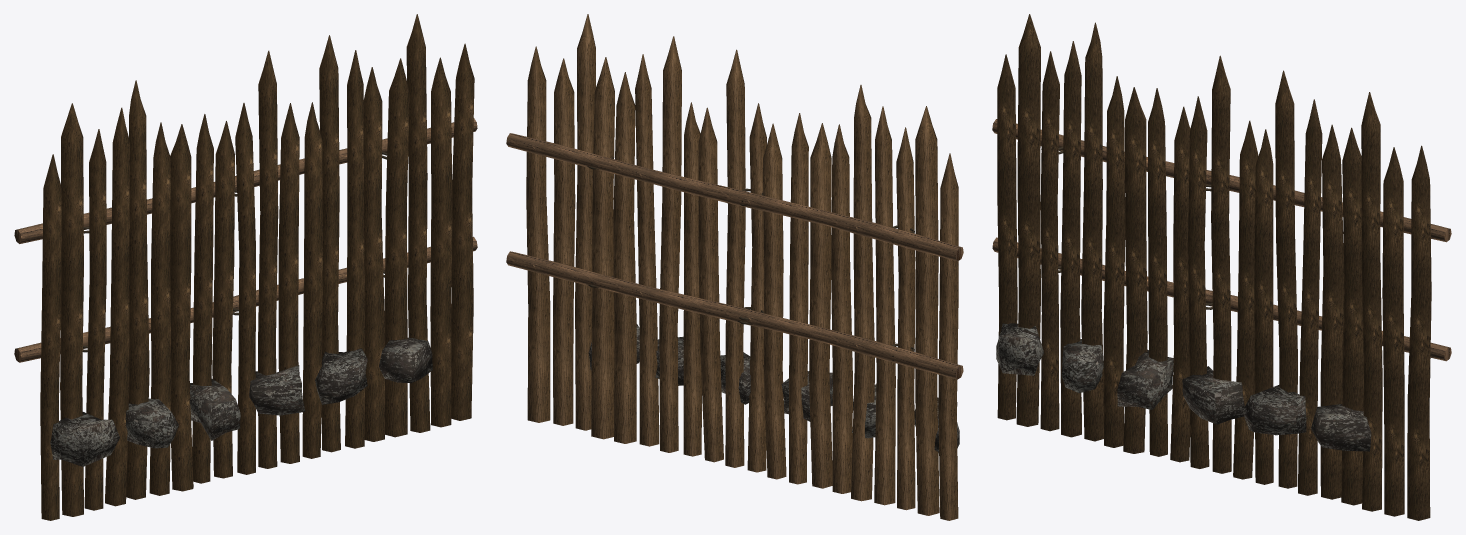
File: SM_Bld_Red_Fence.gltf
The picture shows the model from 3 angles, left to right: view 1: azimuth 30°, elevation 25°; view 2: azimuth 150°, elevation 25°; view 3: azimuth 330°, elevation 25°; orthographic projection.
Visible parts, largest first — view 1: SM_Bld_Red_Fence; view 2: SM_Bld_Red_Fence; view 3: SM_Bld_Red_Fence.
Boxes of the visible parts, x1,y1,x2,y2 form: SM_Bld_Red_Fence: [14, 14, 477, 520]; SM_Bld_Red_Fence: [506, 14, 963, 520]; SM_Bld_Red_Fence: [992, 14, 1451, 520].
Size of the model in its own units: 4.2 by 3.67 by 0.6558.
4 materials, 4 textured.
